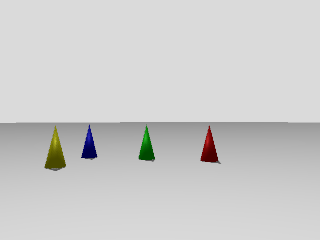blue: (78, 122, 99, 160)
green: (135, 123, 158, 162)
red: (199, 123, 219, 163)
yellow: (43, 125, 66, 168)
